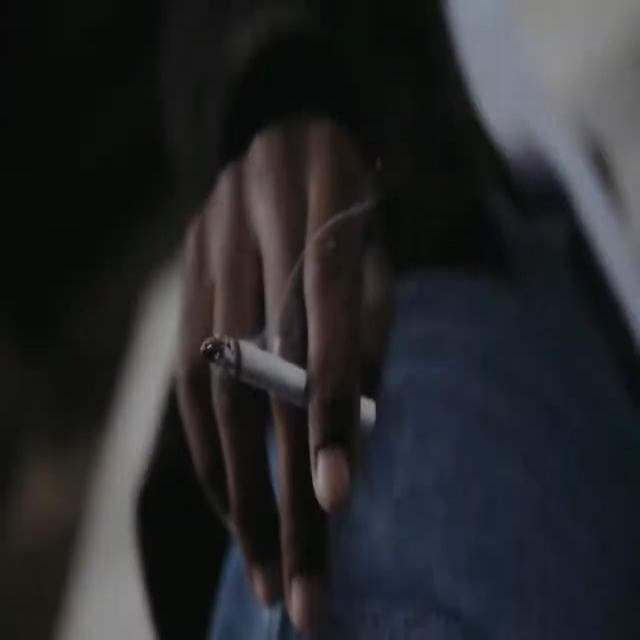Курение: (188, 320, 380, 442)
